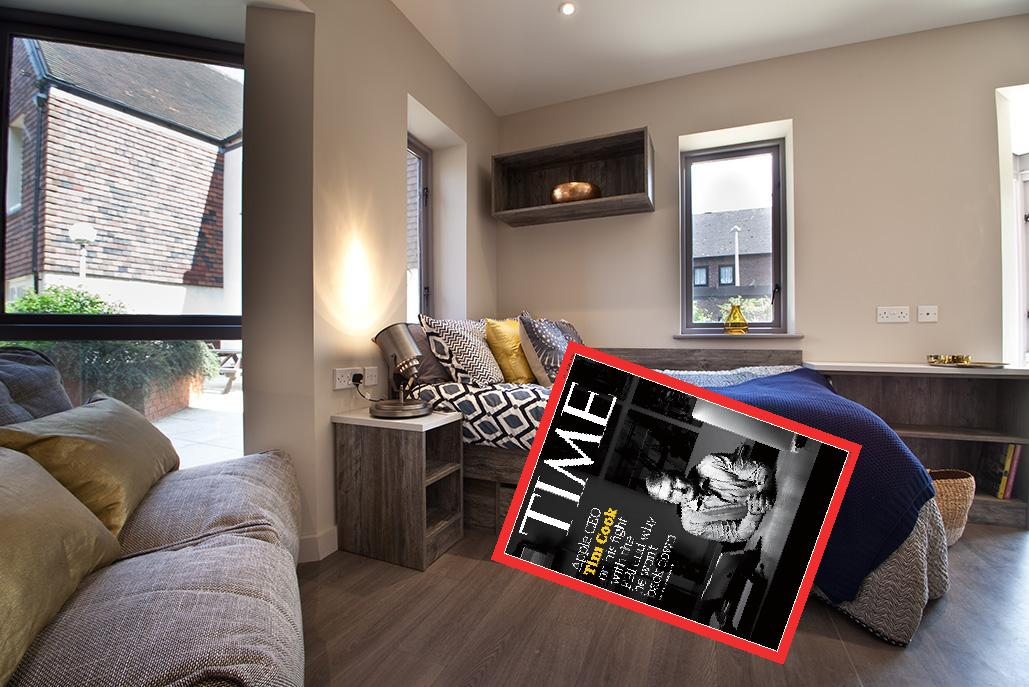times: (487, 338, 860, 664)
